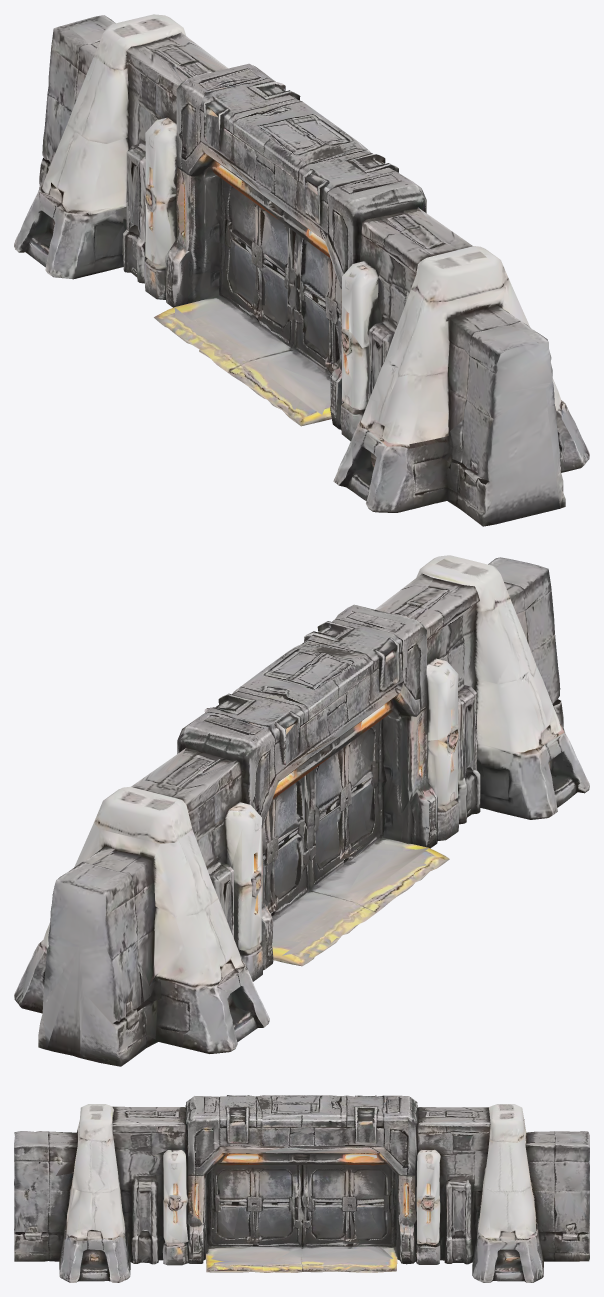
The model's file is gateHouse.glb.
3 views of the same model, one above another, from view 1: azimuth 30°, elevation 25°; view 2: azimuth 150°, elevation 25°; view 3: azimuth 270°, elevation 25° (orthographic). The views are drawn at different scales.
Parts seen in each view (by area): view 1: gateHouse; view 2: gateHouse; view 3: gateHouse.
Boxes of the visible parts, x1=… form: gateHouse: x1=14, y1=14, x2=589, y2=526; gateHouse: x1=14, y1=555, x2=589, y2=1066; gateHouse: x1=14, y1=1095, x2=589, y2=1282.
Bounding box in the file's own units: 9.08 × 9 × 32.
Materials: 1 (1 with a texture image).
